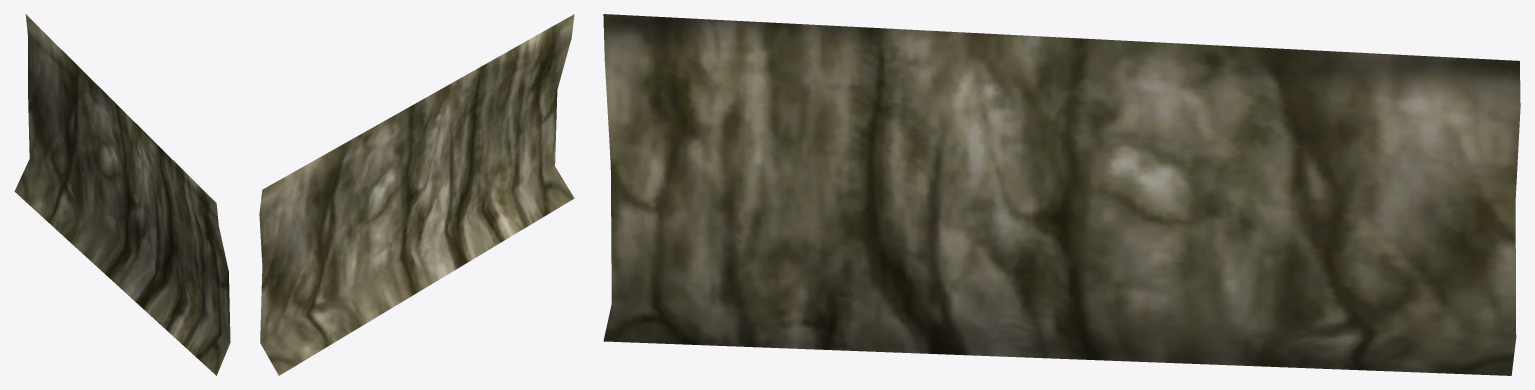
File: CB_NEWPLAYSURFACE_CB_PLAYSURFACE121.fbx
3 renders of one model, left to right at view 1: azimuth 30°, elevation 25°; view 2: azimuth 150°, elevation 25°; view 3: azimuth 270°, elevation 25°, orthographic. The views are drawn at different scales.
Visible parts, largest first — view 1: CB_NEWPLAYSURFACE_CB_PLAYSURFACE121; view 2: CB_NEWPLAYSURFACE_CB_PLAYSURFACE121; view 3: CB_NEWPLAYSURFACE_CB_PLAYSURFACE121.
Boxes of the visible parts, box(x1,y1,x2,y2) form: CB_NEWPLAYSURFACE_CB_PLAYSURFACE121: box(14, 14, 230, 375); CB_NEWPLAYSURFACE_CB_PLAYSURFACE121: box(259, 14, 574, 375); CB_NEWPLAYSURFACE_CB_PLAYSURFACE121: box(603, 14, 1520, 375).
Bounding box in the file's own units: 13012 × 40000 × 101529.
2 materials, 2 textured.
